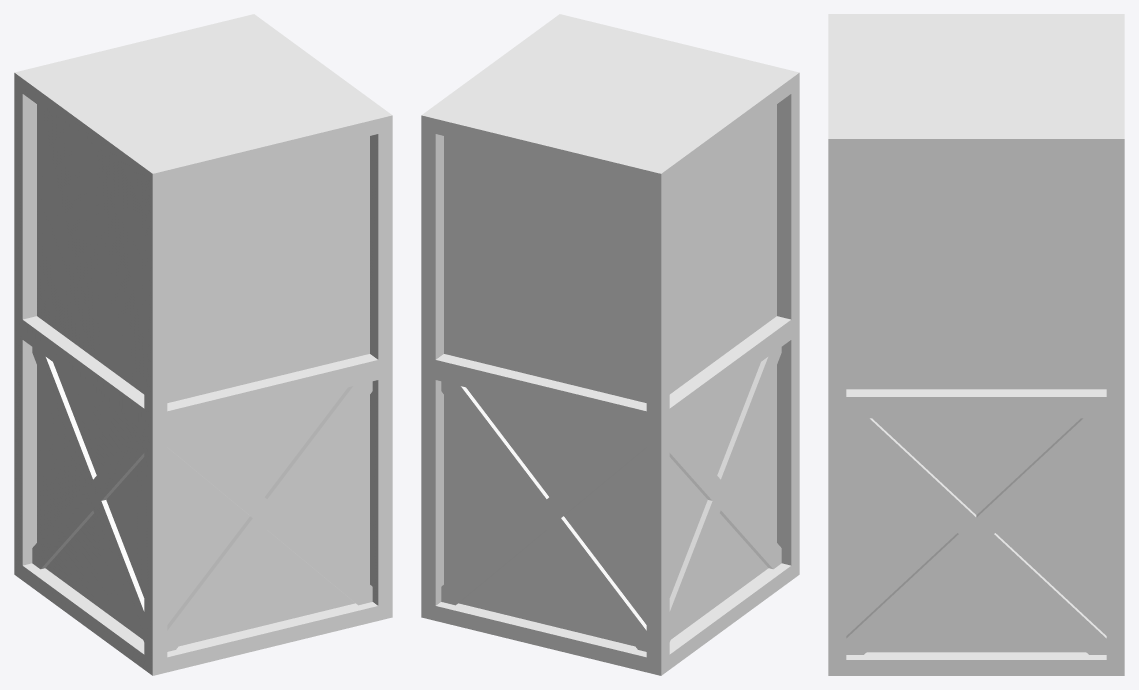
The model's file is Core_color.fbx.
The picture shows the model from 3 angles, left to right: view 1: azimuth 30°, elevation 25°; view 2: azimuth 150°, elevation 25°; view 3: azimuth 270°, elevation 25°; orthographic projection. The views are drawn at different scales.
Visible parts, largest first — view 1: Core; view 2: Core; view 3: Core.
Boxes of the visible parts, x1,y1,x2,y2 form: Core: (14, 14, 392, 675); Core: (421, 14, 799, 675); Core: (828, 14, 1124, 675).
Bounding box in the file's own units: 5000 × 10000 × 5000.
